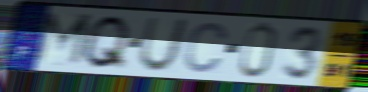0: (238, 21, 279, 81)
3: (283, 24, 326, 82)
C: (181, 20, 230, 75)
M: (29, 10, 95, 70)
Q: (79, 13, 133, 72)
U: (136, 16, 191, 73)
